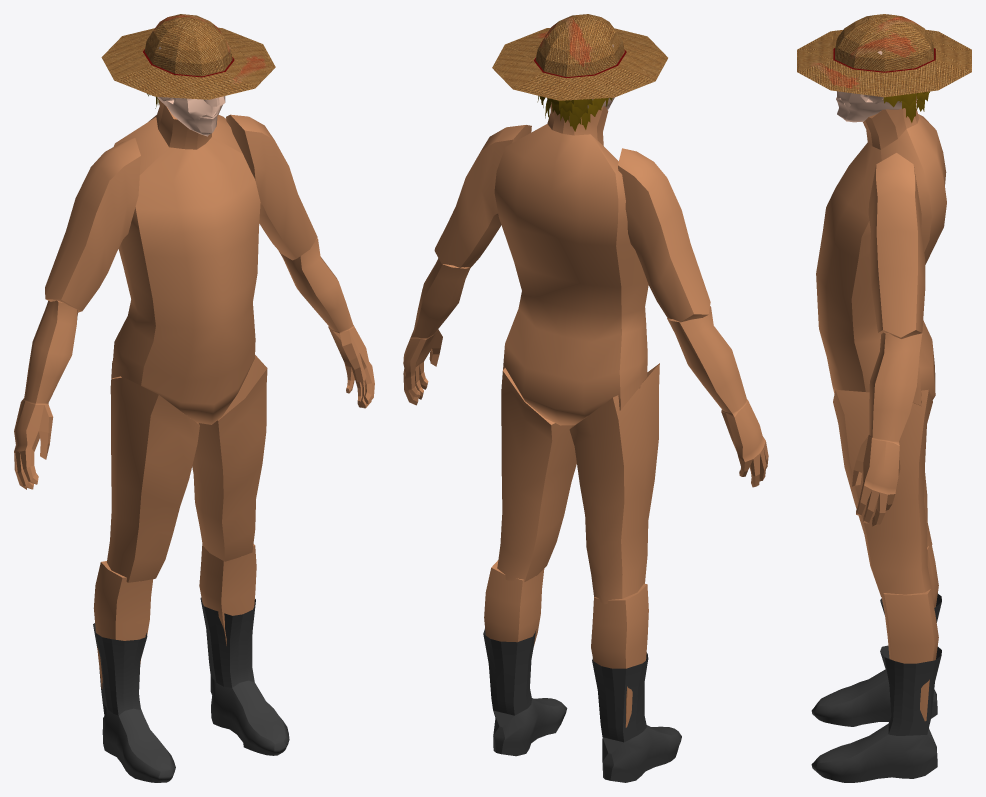
The model's file is vill2.fbx.
3 views of the same model, side by side, from view 1: azimuth 30°, elevation 25°; view 2: azimuth 150°, elevation 25°; view 3: azimuth 270°, elevation 25° (orthographic).
Visible parts, largest first — view 1: Male_Villager2_Torso, Male_Villager2_Left_Leg_Part_1, Male_Villager2_Hat, Male_Villager2_Right_Leg_Part_1, Male_Villager2_Left_Arm_Part_1, Villager_2_Right_Boot, Villager_2_Left_Boot, Male_Villager2_Left_Arm_Part_2, Male_Villager2_Right_Arm_Part_1, Male_Villager2_Right_Arm_Part_2, Villager2_Left_Leg_Part_2, Villager2_Right_Leg_Part_2 (+1 smaller); view 2: Male_Villager2_Torso, Male_Villager2_Left_Leg_Part_1, Male_Villager2_Right_Leg_Part_1, Male_Villager2_Hat, Male_Villager2_Left_Arm_Part_1, Villager_2_Left_Boot, Male_Villager2_Left_Arm_Part_2, Villager_2_Right_Boot, Male_Villager2_Right_Arm_Part_1, Male_Villager2_Right_Arm_Part_2, Villager2_Left_Leg_Part_2, Villager2_Right_Leg_Part_2 (+1 smaller); view 3: Male_Villager2_Torso, Male_Villager2_Hat, Male_Villager2_Right_Leg_Part_1, Male_Villager2_Right_Arm_Part_1, Villager_2_Right_Boot, Male_Villager2_Right_Arm_Part_2, Villager2_Right_Leg_Part_2, Villager_2_Left_Boot, Male_Villager2_Head, Male_Villager2_Hair, Villager2_Left_Leg_Part_2.
Part boxes in pixels (<box>): Male_Villager2_Torso: <box>111,100,260,424</box>; Male_Villager2_Left_Leg_Part_1: <box>107,361,199,582</box>; Male_Villager2_Hat: <box>101,14,275,99</box>; Male_Villager2_Right_Leg_Part_1: <box>192,355,267,561</box>; Male_Villager2_Left_Arm_Part_1: <box>45,138,140,312</box>; Villager_2_Right_Boot: <box>200,597,289,755</box>; Villager_2_Left_Boot: <box>93,623,175,782</box>; Male_Villager2_Left_Arm_Part_2: <box>14,300,77,489</box>; Male_Villager2_Right_Arm_Part_1: <box>226,114,317,260</box>; Male_Villager2_Right_Arm_Part_2: <box>278,238,374,408</box>; Villager2_Left_Leg_Part_2: <box>93,561,153,688</box>; Villager2_Right_Leg_Part_2: <box>199,544,256,645</box>; Male_Villager2_Torso: <box>494,103,648,425</box>; Male_Villager2_Left_Leg_Part_1: <box>569,363,659,604</box>; Male_Villager2_Right_Leg_Part_1: <box>497,368,576,582</box>; Male_Villager2_Hat: <box>492,14,667,100</box>; Male_Villager2_Left_Arm_Part_1: <box>618,148,710,322</box>; Villager_2_Left_Boot: <box>592,652,681,782</box>; Male_Villager2_Left_Arm_Part_2: <box>667,306,768,487</box>; Villager_2_Right_Boot: <box>483,629,567,756</box>; Male_Villager2_Right_Arm_Part_1: <box>434,125,531,267</box>; Male_Villager2_Right_Arm_Part_2: <box>403,258,470,405</box>; Villager2_Left_Leg_Part_2: <box>591,583,648,727</box>; Villager2_Right_Leg_Part_2: <box>484,560,544,645</box>; Male_Villager2_Torso: <box>816,96,946,405</box>; Male_Villager2_Hat: <box>797,14,971,97</box>; Male_Villager2_Right_Leg_Part_1: <box>833,389,932,597</box>; Male_Villager2_Right_Arm_Part_1: <box>868,153,925,338</box>; Villager_2_Right_Boot: <box>811,645,941,782</box>; Male_Villager2_Right_Arm_Part_2: <box>852,332,922,526</box>; Villager2_Right_Leg_Part_2: <box>881,589,938,721</box>; Villager_2_Left_Boot: <box>811,593,941,726</box>; Male_Villager2_Head: <box>836,51,916,122</box>; Male_Villager2_Hair: <box>847,65,930,122</box>; Villager2_Left_Leg_Part_2: <box>927,545,938,607</box>.
Size of the model in its own units: 104 by 205 by 44.44.
